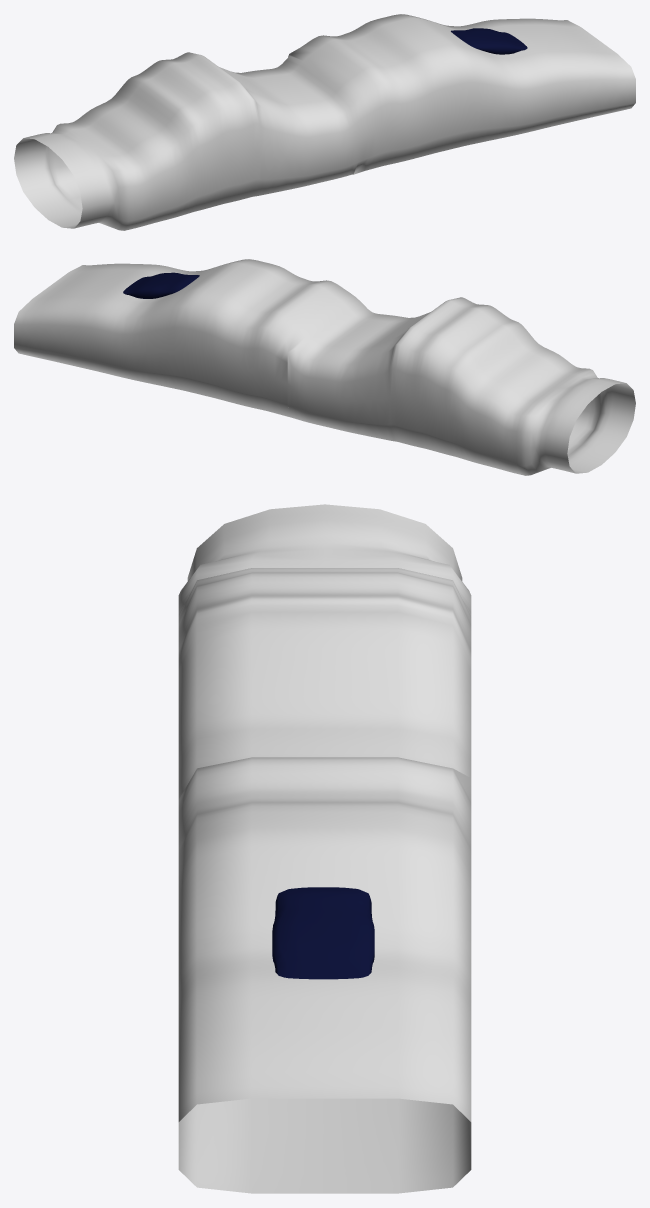
File: screen_03_00.obj
The picture shows the model from 3 angles, top to bottom: view 1: azimuth 30°, elevation 25°; view 2: azimuth 150°, elevation 25°; view 3: azimuth 270°, elevation 25°; orthographic projection. The views are drawn at different scales.
Visible parts, largest first — view 1: Ground.000_Cube.010, Ice.000_Cube.082; view 2: Ground.000_Cube.010, Ice.000_Cube.082; view 3: Ground.000_Cube.010, Ice.000_Cube.082.
Boxes of the visible parts, x1,y1,x2,y2 form: Ground.000_Cube.010: (14, 14, 635, 230); Ice.000_Cube.082: (451, 28, 527, 54); Ground.000_Cube.010: (14, 259, 635, 475); Ice.000_Cube.082: (123, 272, 199, 298); Ground.000_Cube.010: (178, 504, 471, 1193); Ice.000_Cube.082: (272, 887, 374, 979).
Bounding box in the file's own units: 34.77 × 6.75 × 8.
